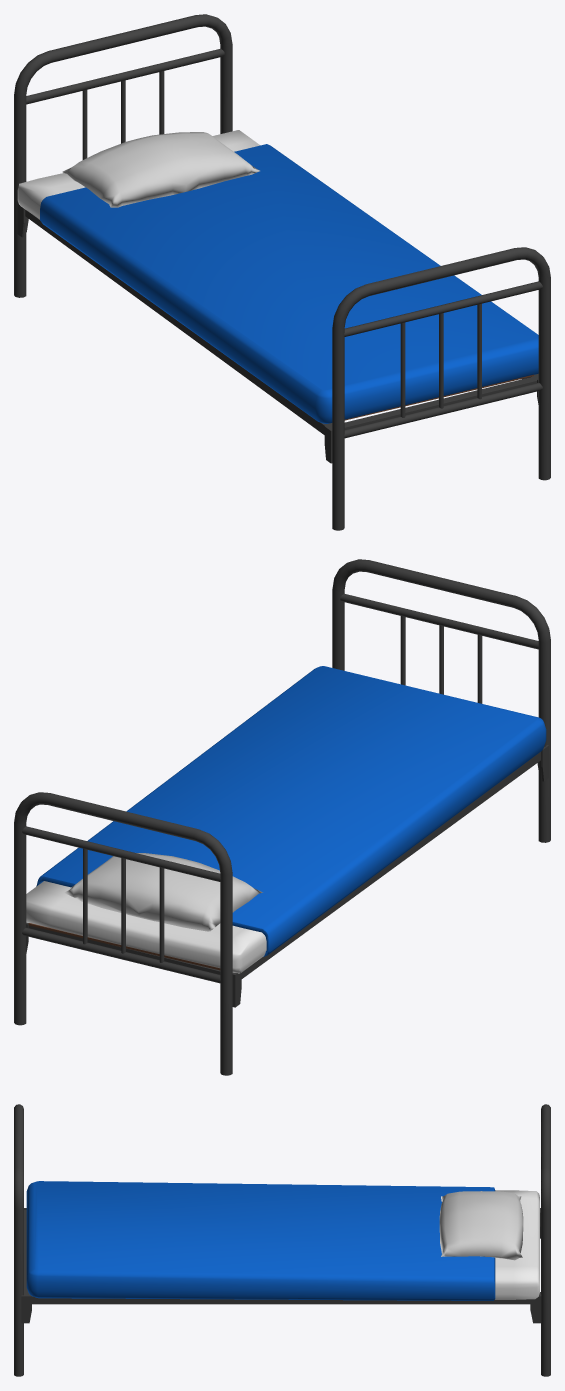
Rendered from Bed.fbx.
3 views of the same model, one above another, from view 1: azimuth 30°, elevation 25°; view 2: azimuth 150°, elevation 25°; view 3: azimuth 270°, elevation 25° (orthographic). The views are drawn at different scales.
Visible parts, largest first — view 1: Mattress, BedFrame, Pillow; view 2: Mattress, BedFrame, Pillow; view 3: Mattress, BedFrame, Pillow.
Boxes of the visible parts, box(x1,y1,x2,y2) form: Mattress: box(17, 130, 538, 423); BedFrame: box(14, 14, 550, 530); Pillow: box(62, 132, 259, 207); Mattress: box(26, 666, 546, 973); BedFrame: box(14, 559, 550, 1075); Pillow: box(64, 853, 262, 931); Mattress: box(26, 1181, 539, 1300); BedFrame: box(14, 1104, 550, 1376); Pillow: box(439, 1191, 523, 1260).
Bounding box in the file's own units: 76.12 × 73.74 × 183.
